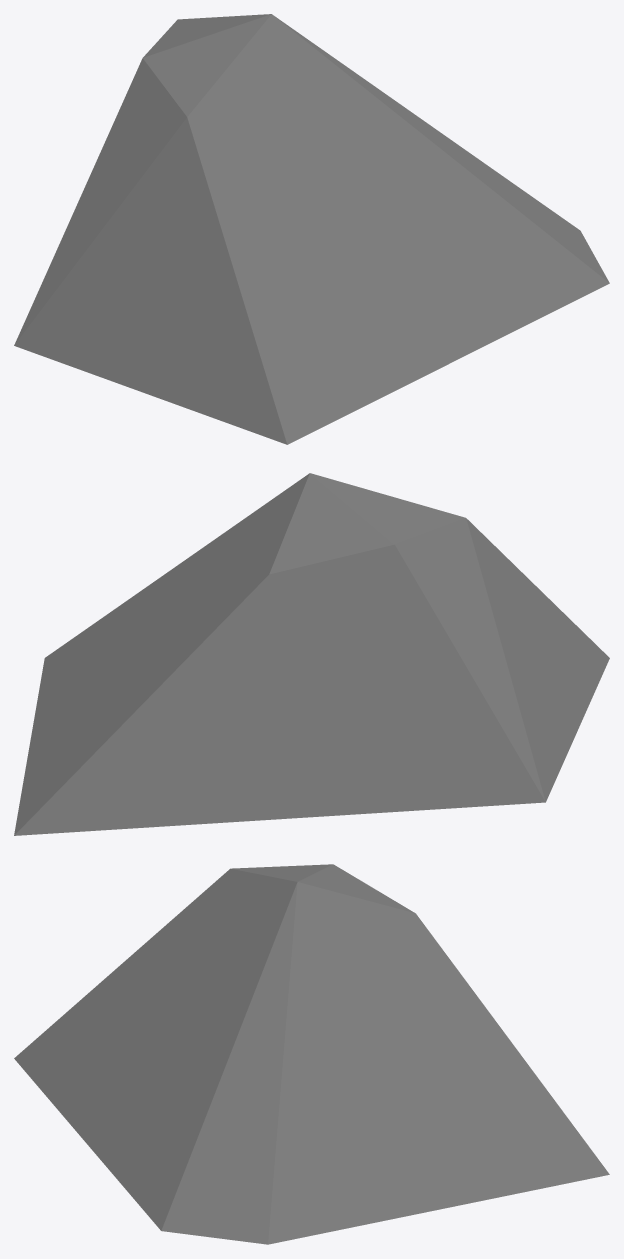
File: object_68_lev1.glb
3 renders of one model, top to bottom at view 1: azimuth 30°, elevation 25°; view 2: azimuth 150°, elevation 25°; view 3: azimuth 270°, elevation 25°, orthographic. The views are drawn at different scales.
Parts seen in each view (by area): view 1: object_68_lev1; view 2: object_68_lev1; view 3: object_68_lev1.
Part boxes in pixels (box(x1,y1,x2,y2)): object_68_lev1: box(14, 14, 609, 444); object_68_lev1: box(14, 473, 609, 835); object_68_lev1: box(14, 864, 609, 1244).
Bounding box in the file's own units: 0.3554 × 0.1723 × 0.3891.
1 material, 1 textured.
